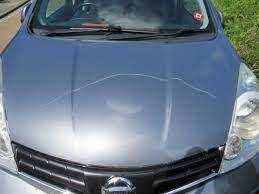bonnet-dent: (12, 50, 239, 174)
